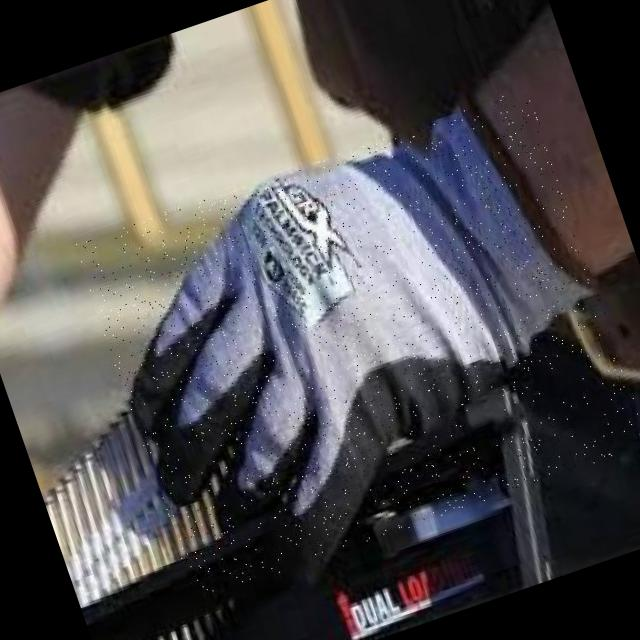forklift: (62, 86, 640, 617)
